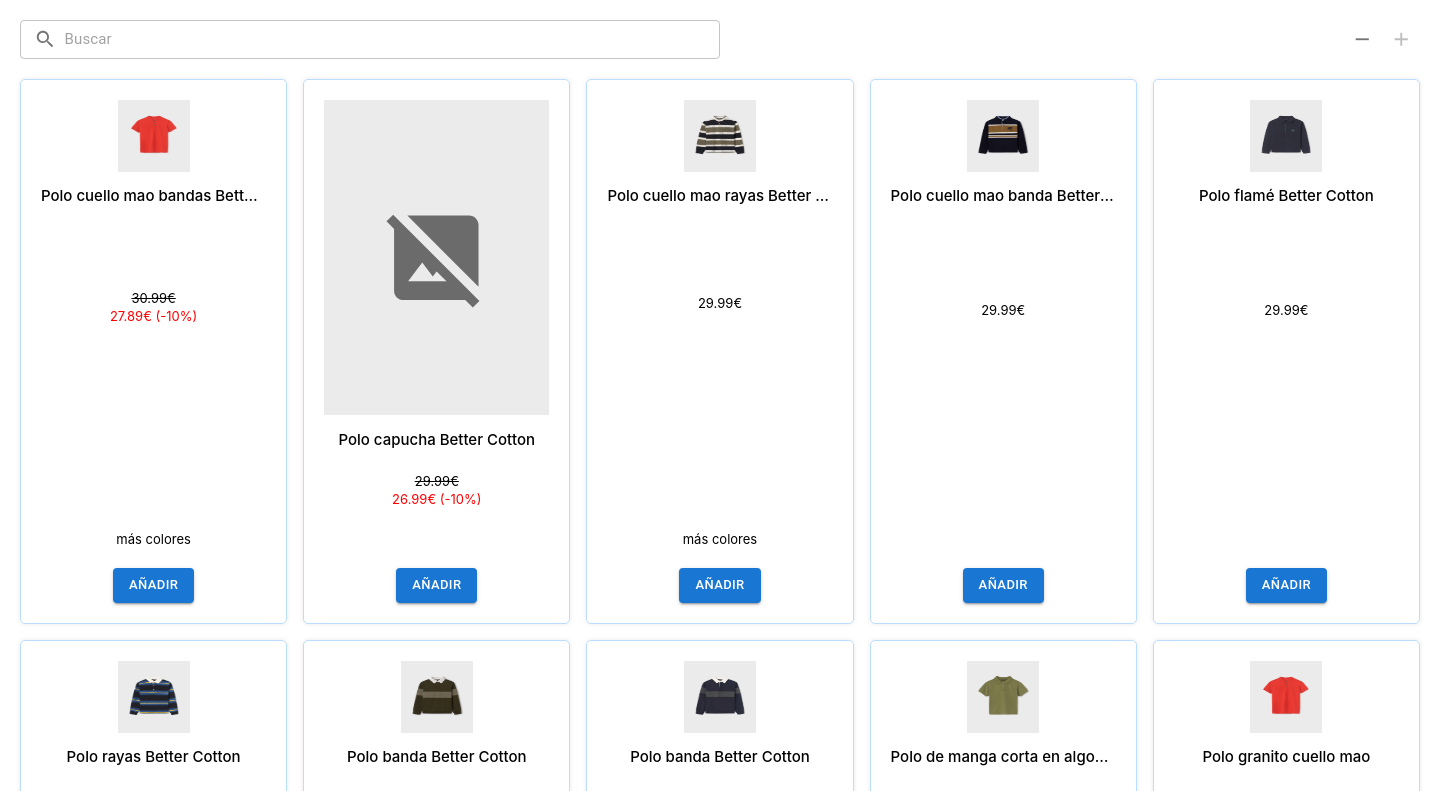
HomePage › when the user search 'banda' and return 4 results
The image size is (1440, 791).
Type "banda" into the field with placeholder "Buscar" at (392,39), box [64,20,720,59]
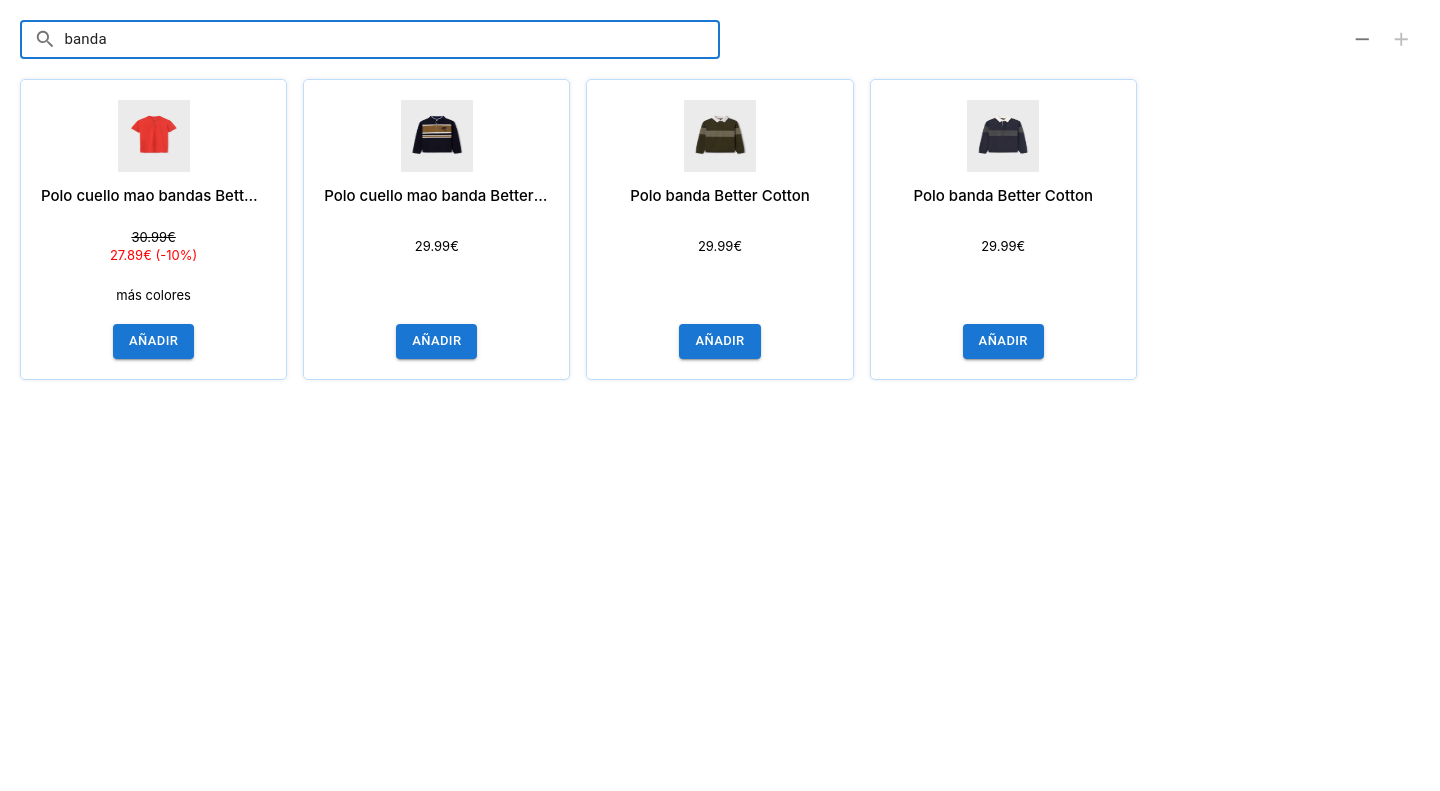
Result: the number of elements with test id "product" is 4 at [20,79,287,380]; [303,79,570,380]; [586,79,854,380]; [870,79,1137,380]
